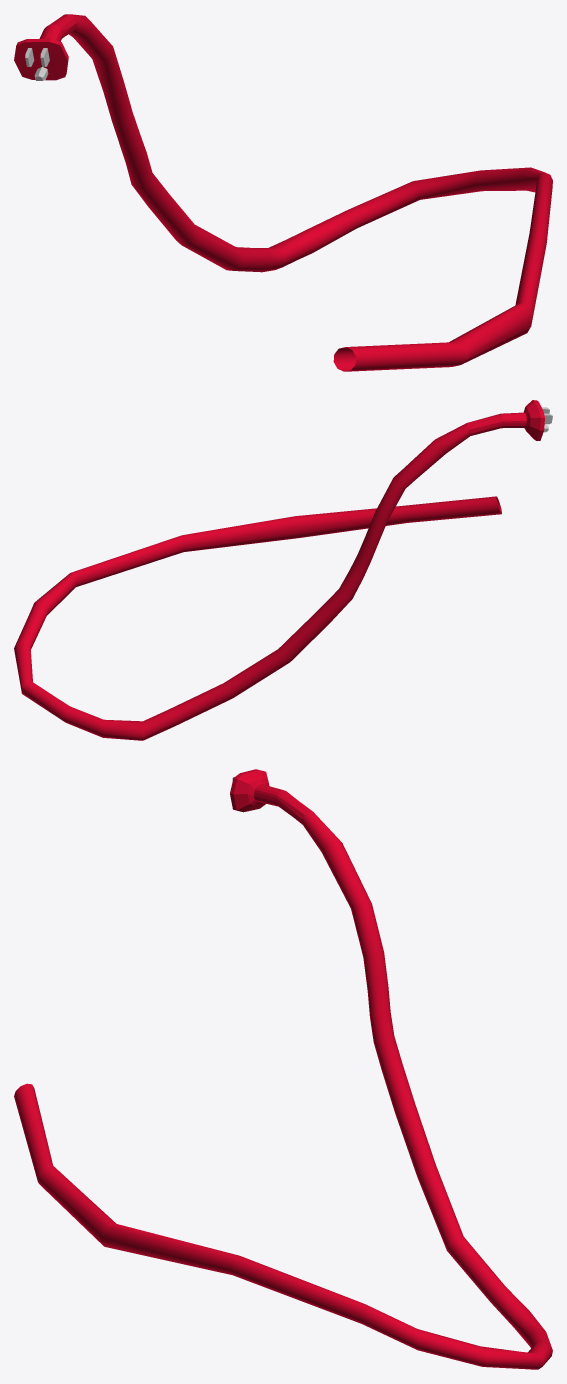
The model's file is Cable.fbx.
The picture shows the model from 3 angles, top to bottom: view 1: azimuth 30°, elevation 25°; view 2: azimuth 150°, elevation 25°; view 3: azimuth 270°, elevation 25°; orthographic projection. The views are drawn at different scales.
Visible parts, largest first — view 1: Cable_pal_generador; view 2: Cable_pal_generador; view 3: Cable_pal_generador.
Boxes of the visible parts, left/top/right/bottom form: Cable_pal_generador: left=14, top=14, right=552, bottom=371; Cable_pal_generador: left=14, top=400, right=552, bottom=740; Cable_pal_generador: left=14, top=769, right=552, bottom=1369.
Size of the model in its own units: 121 by 83.15 by 104.
